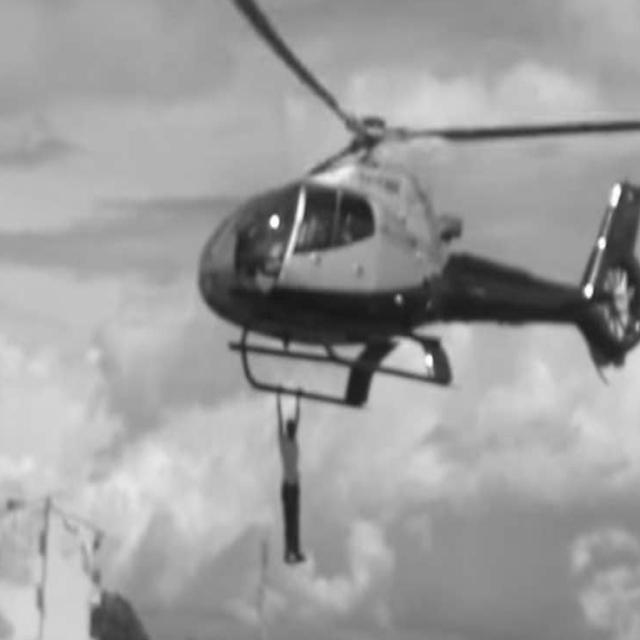helicopter: (191, 1, 640, 412)
